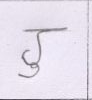u_matra: (19, 64, 42, 79)
